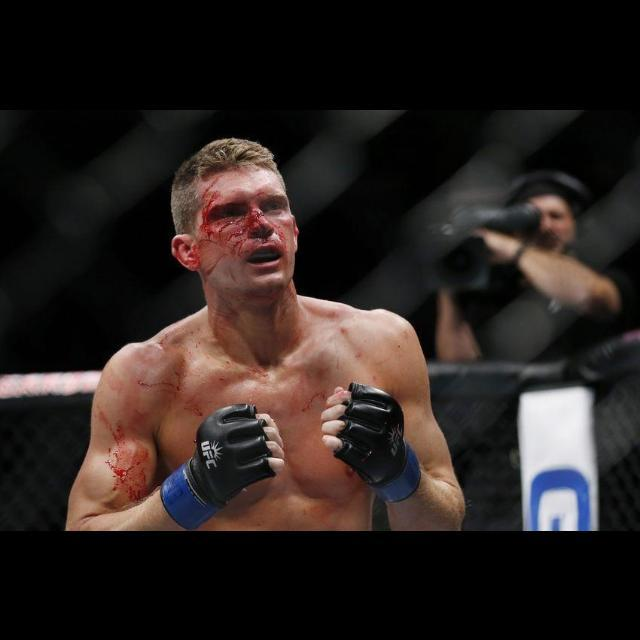blood: (172, 171, 300, 277)
